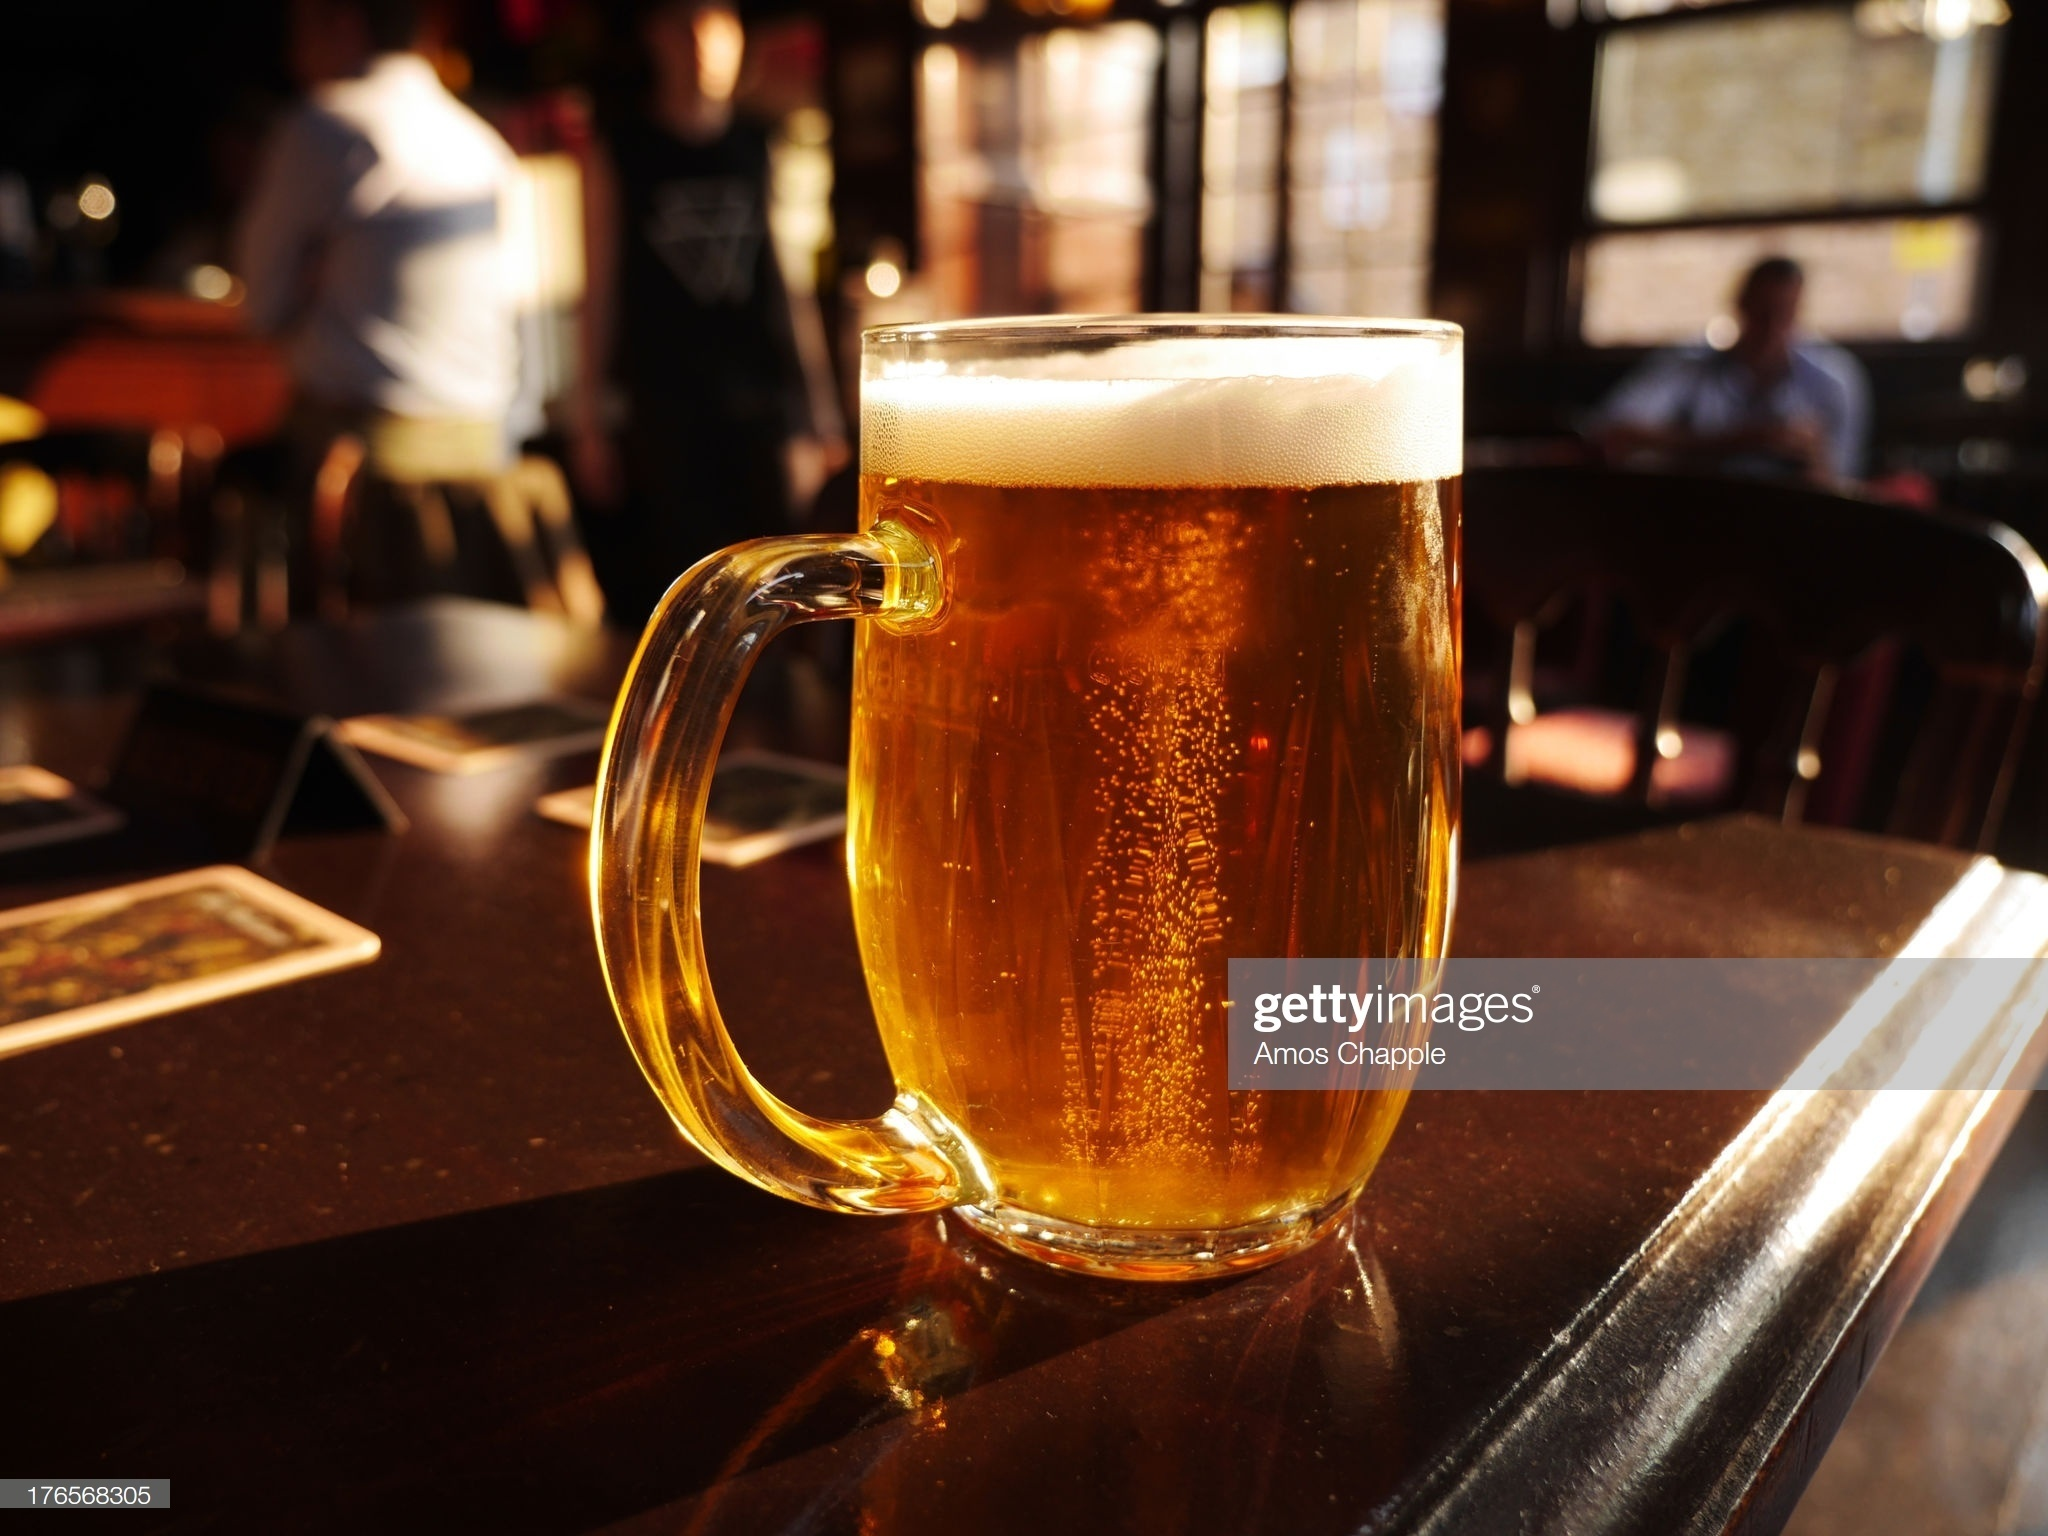whiskey: (793, 315, 1493, 1260)
